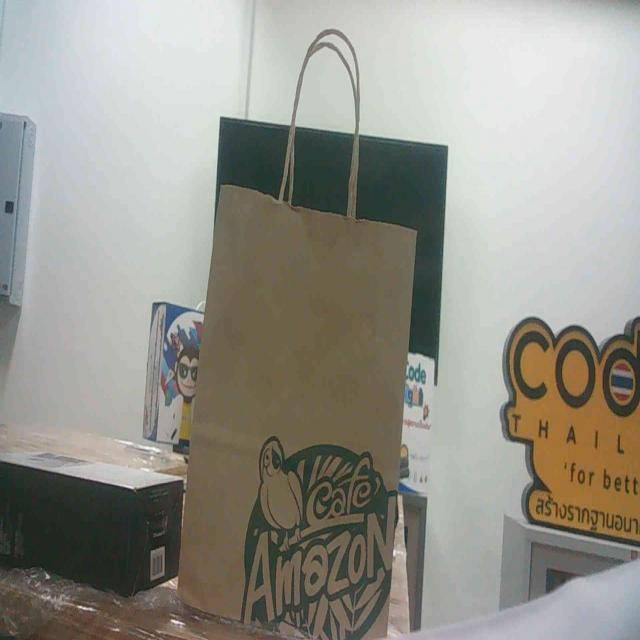bag: (170, 135, 436, 640)
